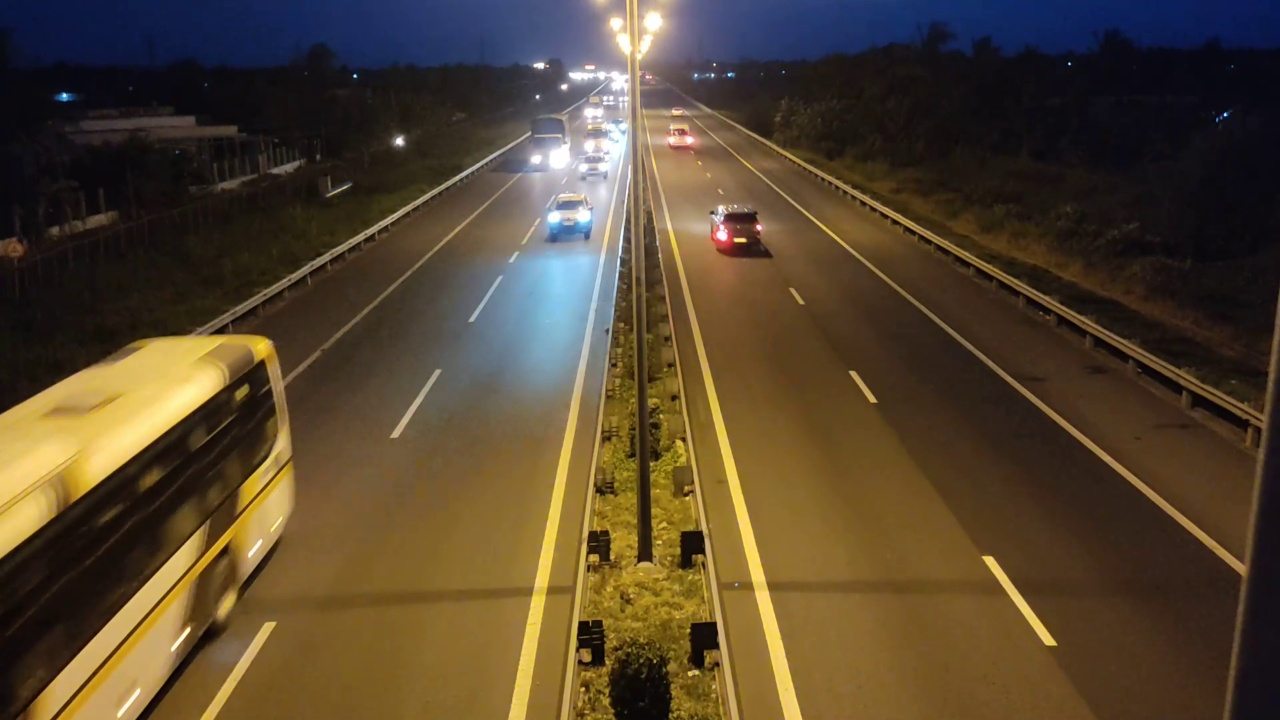bus: (1, 335, 297, 710)
car: (709, 203, 765, 255), (544, 191, 594, 241), (665, 125, 697, 151)
